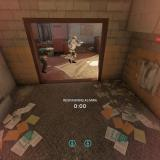Character: (36, 40, 54, 74), (68, 36, 86, 64)
Head: (36, 41, 42, 47), (74, 36, 78, 40)
